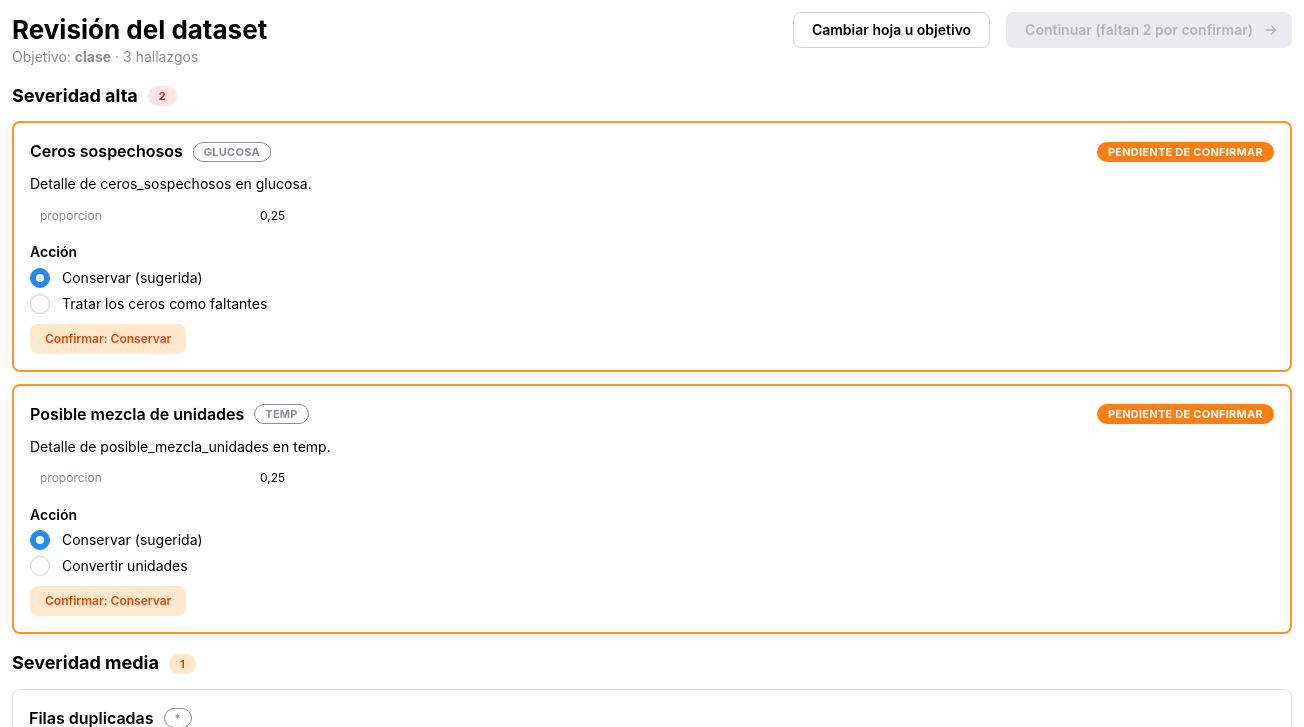
Test: Revisión: hallazgos pendientes de confirmar › bloquea el avance hasta que cada hallazgo que lo requiere tenga una elección explícita
This screenshot has width=1304, height=727.
Check: the button "Continuar (faltan 2 por confirmar)" is disabled, box [1006,12,1292,48]
Check: the text "Pendiente de confirmar" in the row of "Ceros sospechosos" is shown, box [1108,145,1263,159]
Click the button "Confirmar: Conservar" below "Tratar los ceros como faltantes".
click(108, 339)  # box [30,324,186,354]
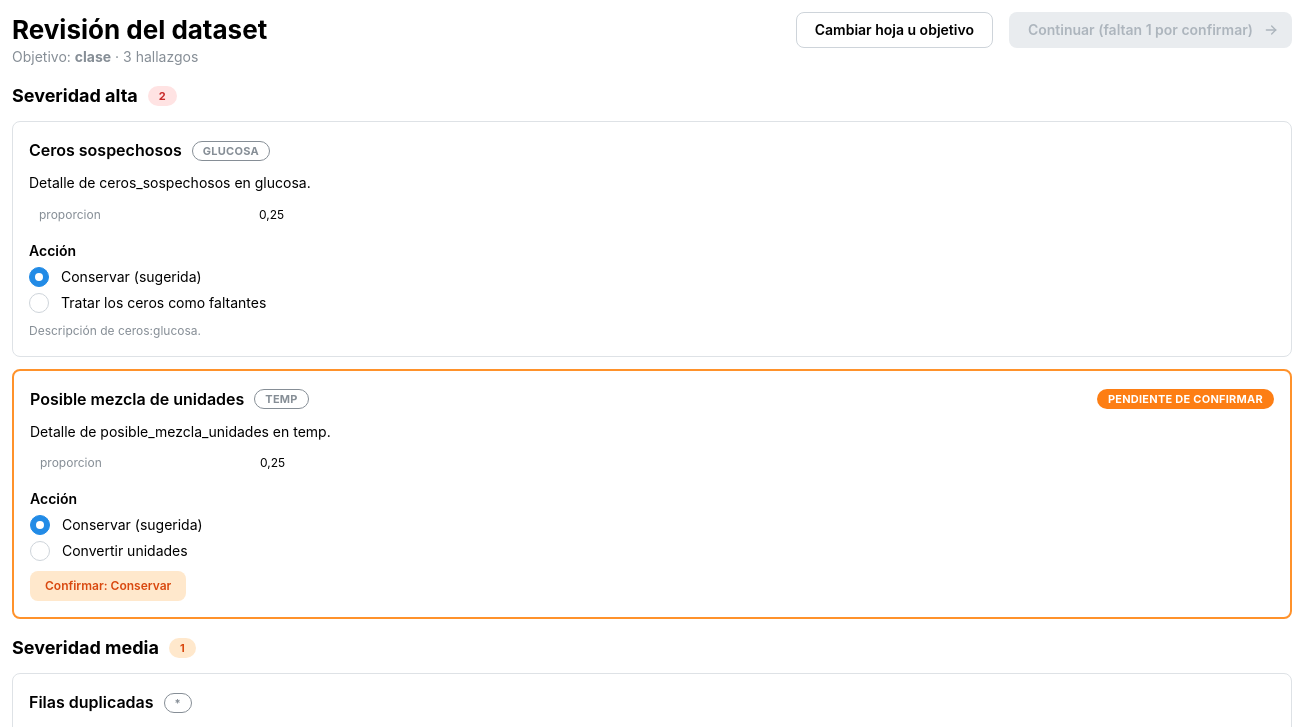
Check: the button "Continuar (faltan 1 por confirmar)" is disabled, box [1009,12,1292,48]
Click the radio button labelled "Convertir unidades".
click(40, 551)  # box [30,541,50,561]
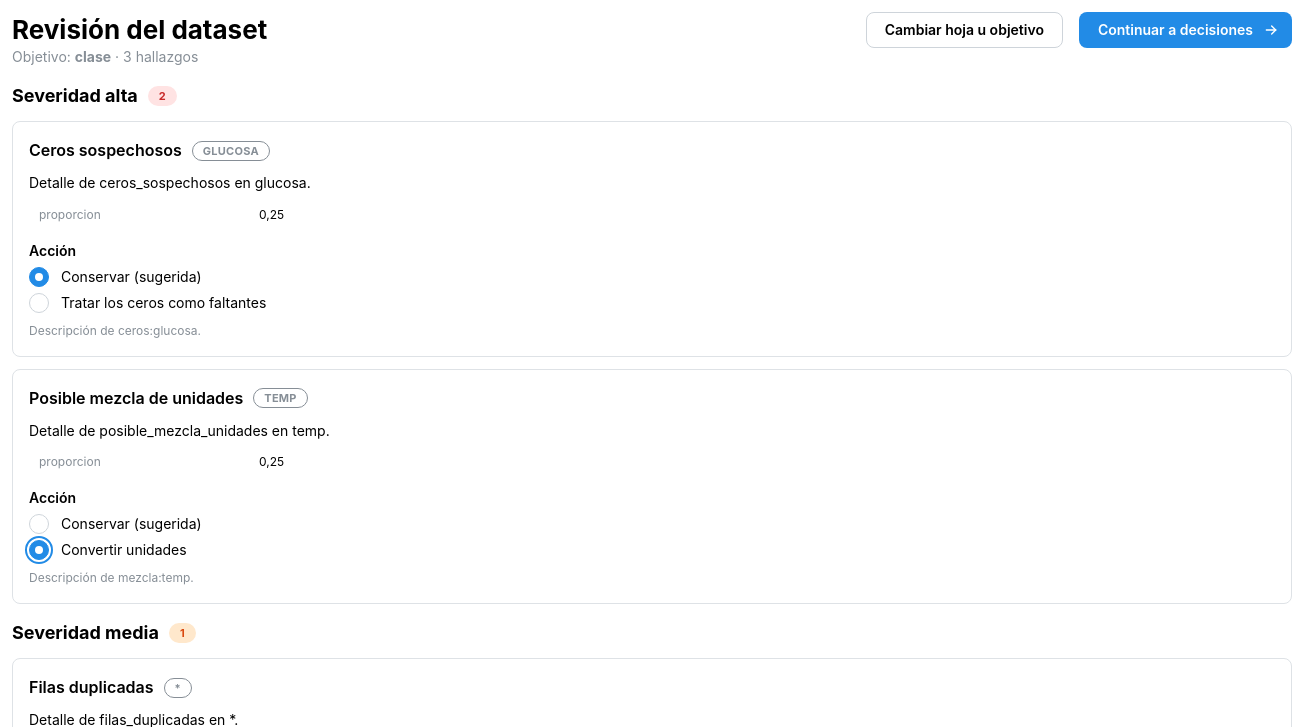
Check: the button "Continuar a decisiones" is enabled, box [1079,12,1292,48]
